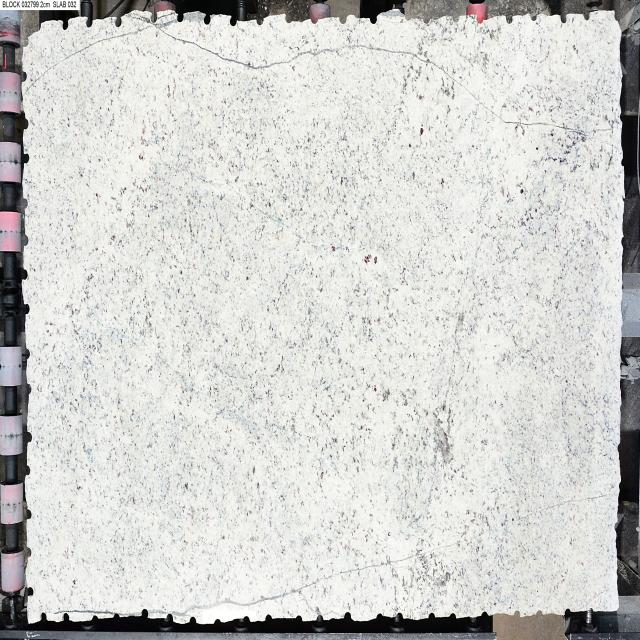chapa: (22, 12, 624, 623)
furo: (20, 15, 46, 56)
veio: (18, 105, 33, 137), (200, 9, 215, 31), (23, 425, 36, 448), (173, 8, 189, 26), (554, 11, 572, 27), (19, 260, 31, 284), (24, 582, 37, 604), (20, 149, 33, 169), (137, 605, 152, 622), (226, 11, 240, 29), (282, 6, 295, 25), (501, 10, 516, 26), (23, 503, 34, 524), (149, 4, 159, 27), (367, 8, 379, 27), (58, 16, 72, 32), (112, 12, 125, 29), (40, 610, 53, 627), (22, 460, 33, 480), (20, 300, 33, 316), (61, 611, 74, 626), (581, 7, 592, 24), (421, 13, 434, 27), (83, 13, 94, 29)
